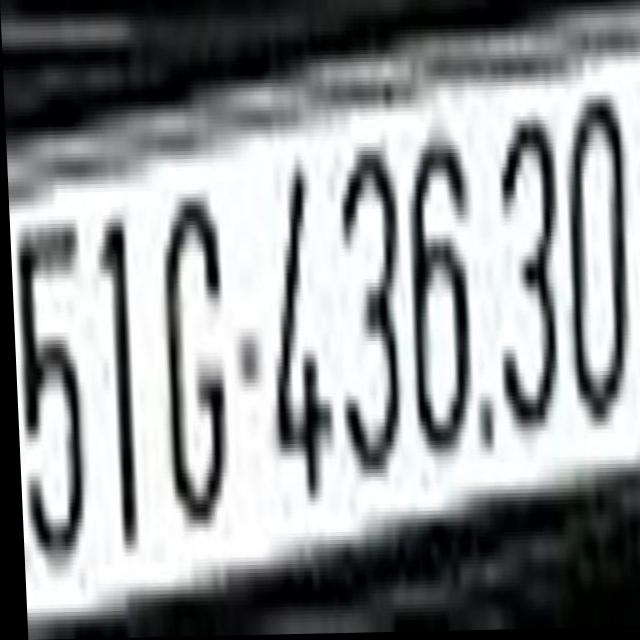0: (560, 71, 636, 429)
1: (95, 222, 138, 565)
3: (325, 145, 401, 491), (489, 91, 562, 450)
4: (265, 169, 328, 508)
5: (8, 216, 90, 570)
6: (402, 132, 472, 467)
G: (157, 194, 230, 537)
